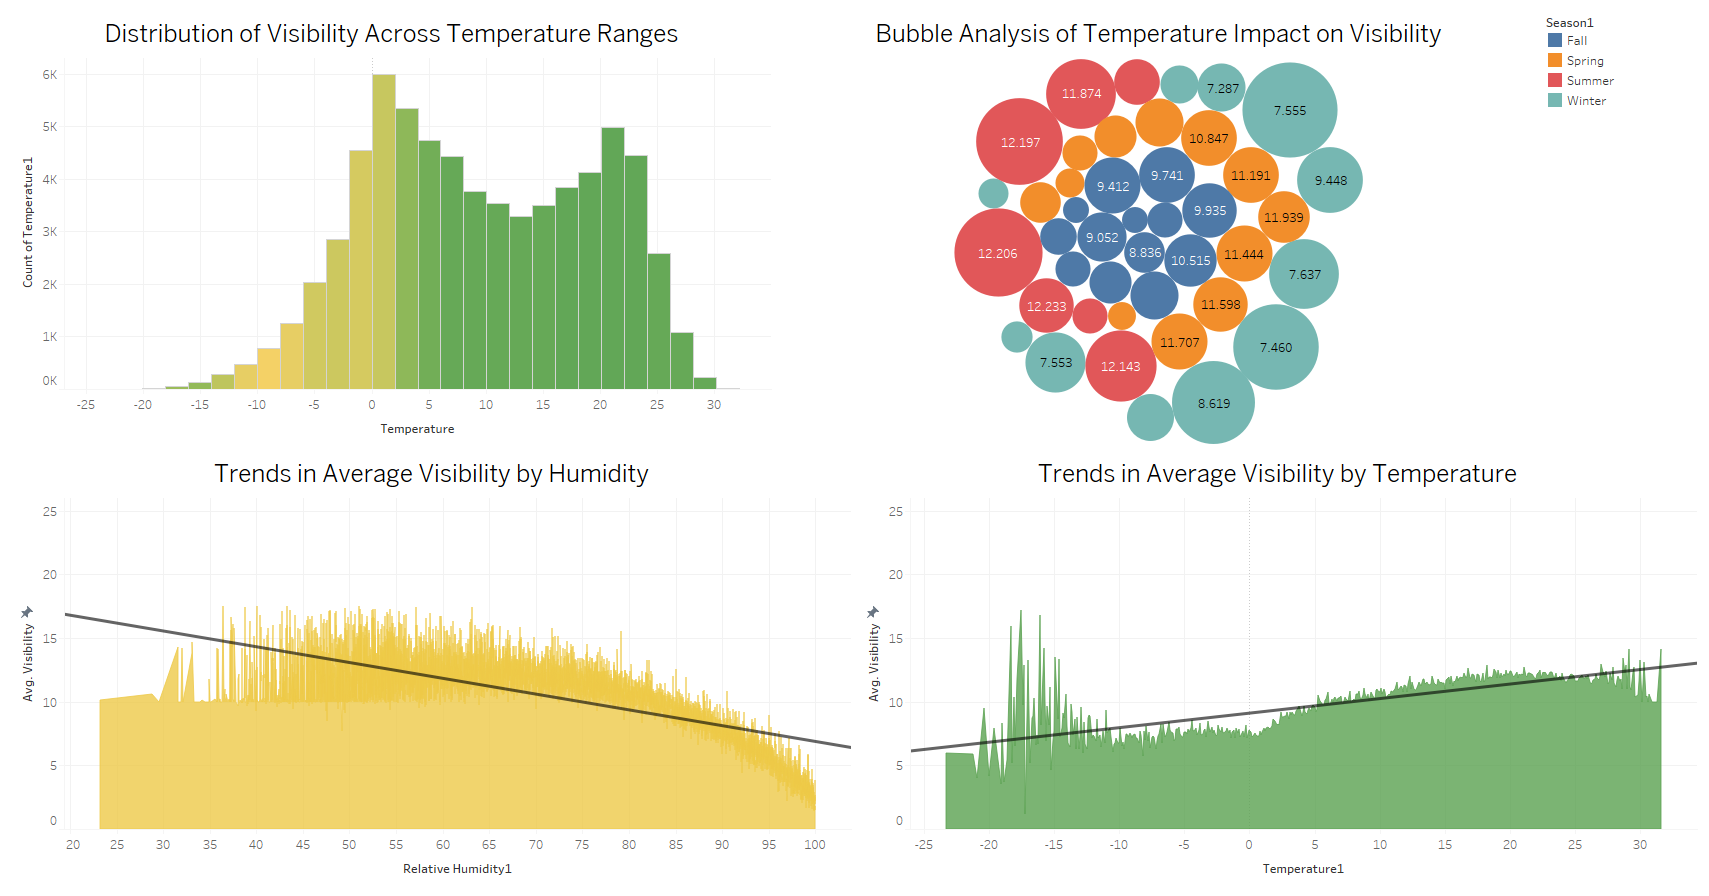

What the dashboard file says about the page in this screenshot:
{"tool":"tableau","page":{"name":"Hypothesis-2","canvas":[1000,1000],"units":"permille","ordinal":1},"visuals":[{"type":"worksheet","title":"H2-V1","mark":"Automatic","rows":["Temperature"],"cols":["Temperature (bin)"],"box":[4.7,8.9,448.5,491.1]},{"type":"worksheet","title":"H2-V3","mark":"Circle","box":[453.2,8.9,448.5,491.1]},{"type":"legend","title":"H2-V3","param":"[federated.0d7zv000usn33s12f0i2h1qllquo].[none:Season:nk]","box":[901.7,8.9,93.6,118.3]},{"type":"worksheet","title":"H2-V4","mark":"Area","rows":["Visibility"],"cols":["Relative Humidity"],"box":[4.7,500,495.3,491.1]},{"type":"worksheet","title":"H2-V2","mark":"Area","rows":["Visibility"],"cols":["Temperature"],"box":[500,500,495.3,491.1]}]}

Visuals, with their boxes on the dashboard's canvas, which has no fixed pixel size, in thousandths of its width and height (x1, y1, x2, y2). These are canvas units, not pixel positions in the 1709x896 screenshot, which may show the page scaled, cropped or inside an application window:
"H2-V1" worksheet: crop(5, 9, 453, 500)
"H2-V3" worksheet (Circle marks): crop(453, 9, 902, 500)
"H2-V3" legend: crop(902, 9, 995, 127)
"H2-V4" worksheet (Area marks): crop(5, 500, 500, 991)
"H2-V2" worksheet (Area marks): crop(500, 500, 995, 991)
